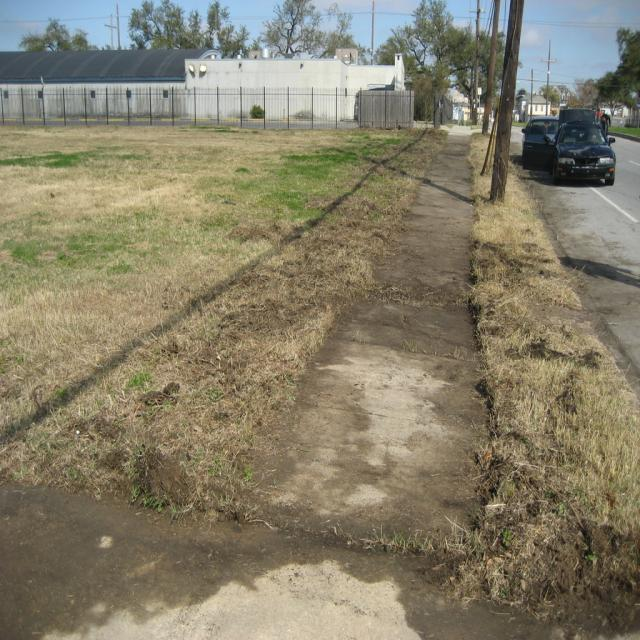car: (522, 119, 615, 184)
